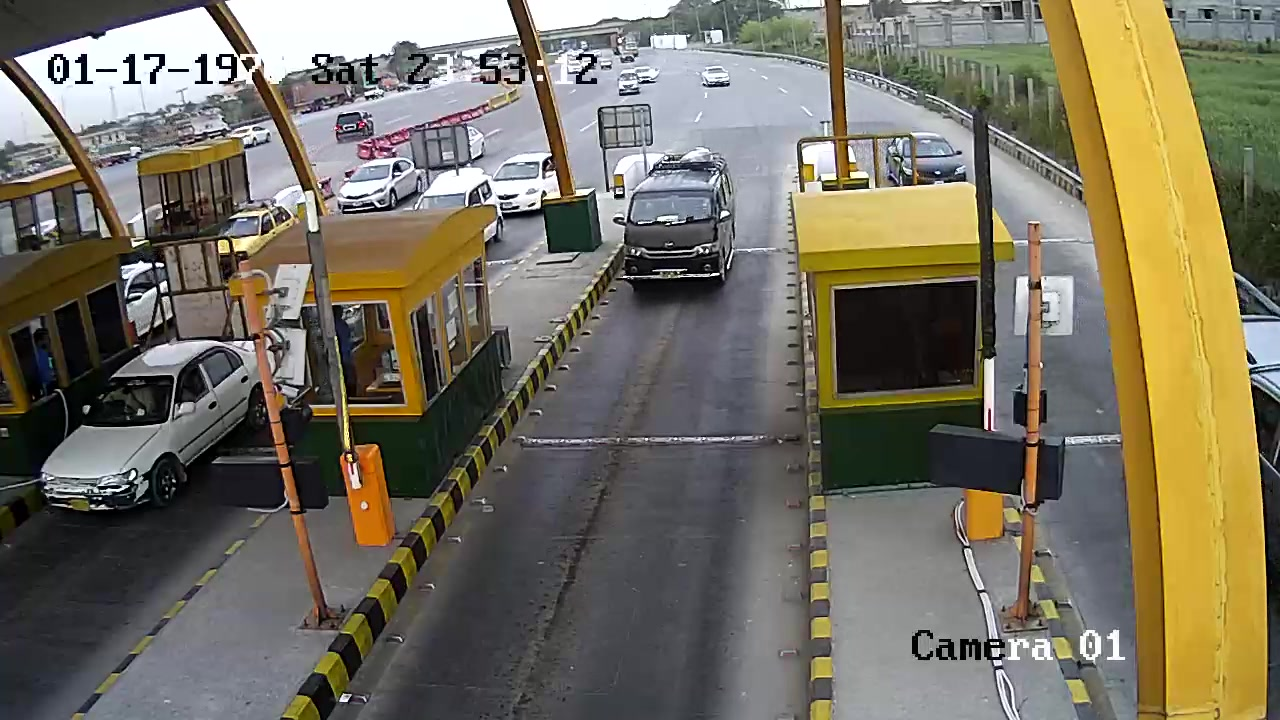F2: (610, 146, 744, 313)
